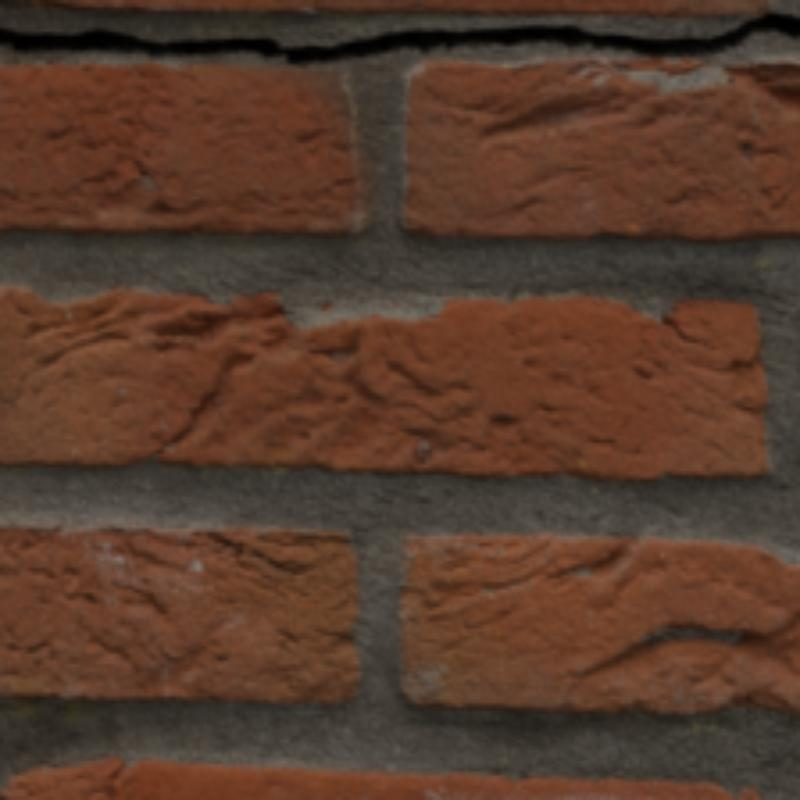crack: (0, 14, 796, 61)
